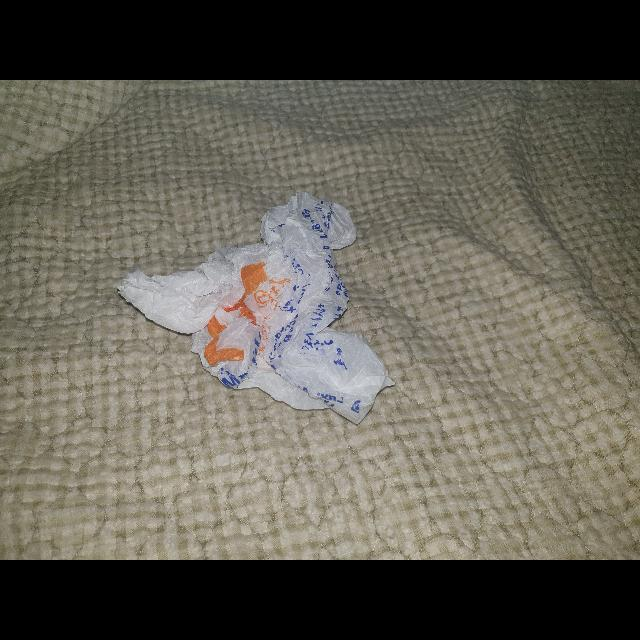plastic_bag: (108, 184, 400, 442)
